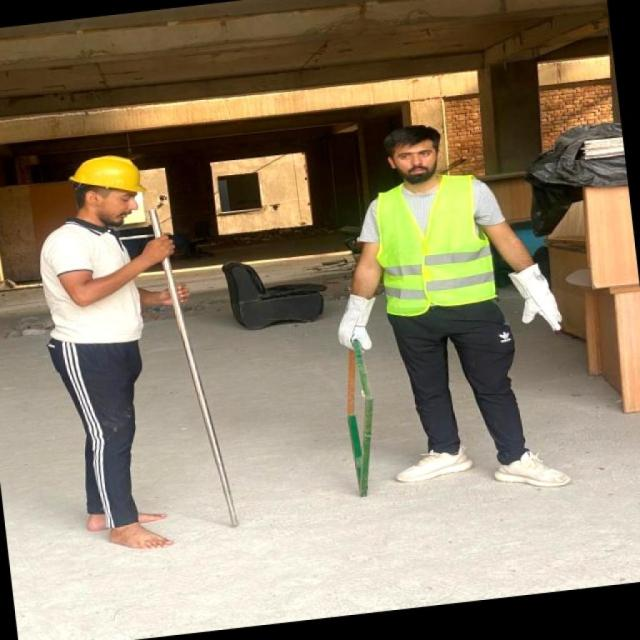Gloves-Detection: (506, 266, 570, 332), (336, 290, 371, 347)
